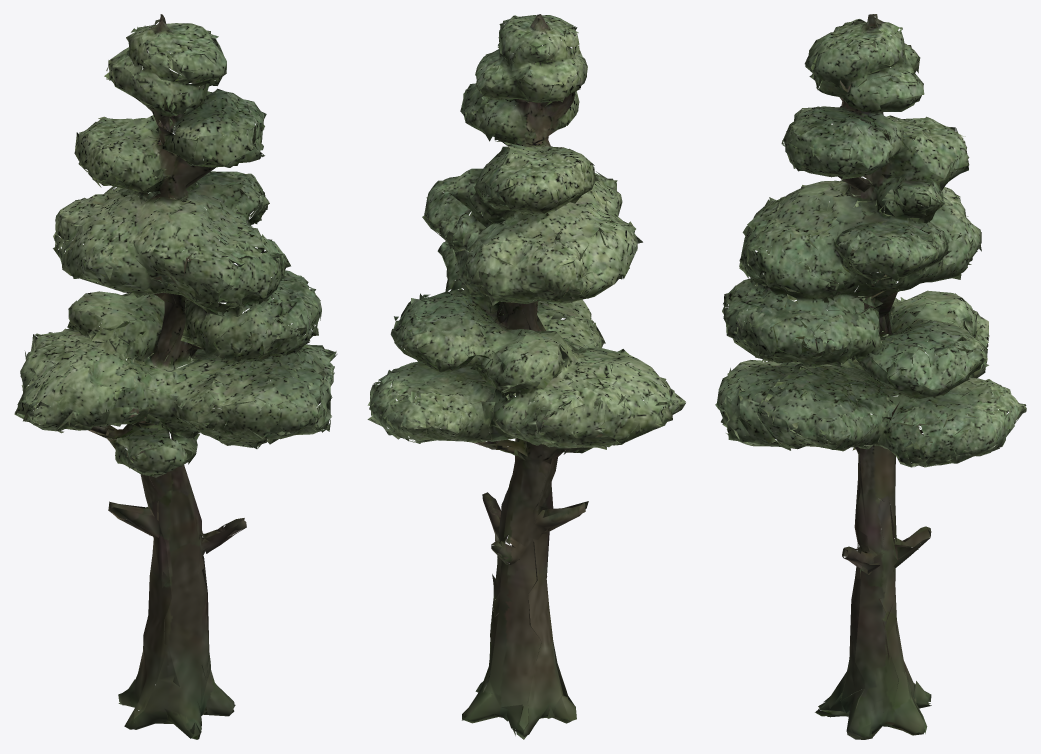
File: tree_tall_b_meshy_hd_l50.glb
3 renders of one model, left to right at view 1: azimuth 30°, elevation 25°; view 2: azimuth 150°, elevation 25°; view 3: azimuth 270°, elevation 25°, orthographic.
Visible parts, largest first — view 1: tree_tall_b_meshy_hd; view 2: tree_tall_b_meshy_hd; view 3: tree_tall_b_meshy_hd.
Boxes of the visible parts, left/top/right/bottom form: tree_tall_b_meshy_hd: left=14, top=14, right=337, bottom=739; tree_tall_b_meshy_hd: left=367, top=14, right=685, bottom=739; tree_tall_b_meshy_hd: left=715, top=14, right=1026, bottom=739.
Size of the model in its own units: 2 by 4.65 by 1.88.
Materials: 1 (1 with a texture image).
